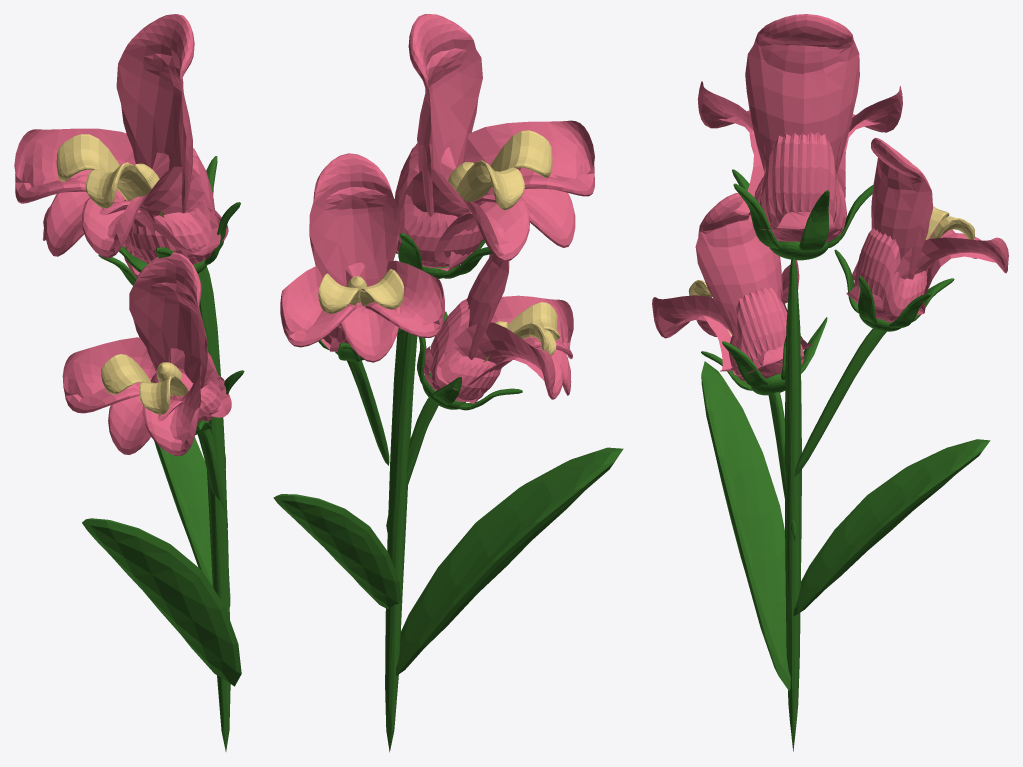
The model's file is Anger_Linaria.glb.
The picture shows the model from 3 angles, left to right: view 1: azimuth 30°, elevation 25°; view 2: azimuth 150°, elevation 25°; view 3: azimuth 270°, elevation 25°; orthographic projection. The views are drawn at different scales.
Parts seen in each view (by area): view 1: Cube.003; view 2: Cube.003; view 3: Cube.003.
Part boxes in pixels (bbox=[...]): Cube.003: bbox=[14, 14, 244, 751]; Cube.003: bbox=[273, 14, 623, 752]; Cube.003: bbox=[652, 14, 1008, 751].
Size of the model in its own units: 5.12 by 16.87 by 7.57.
